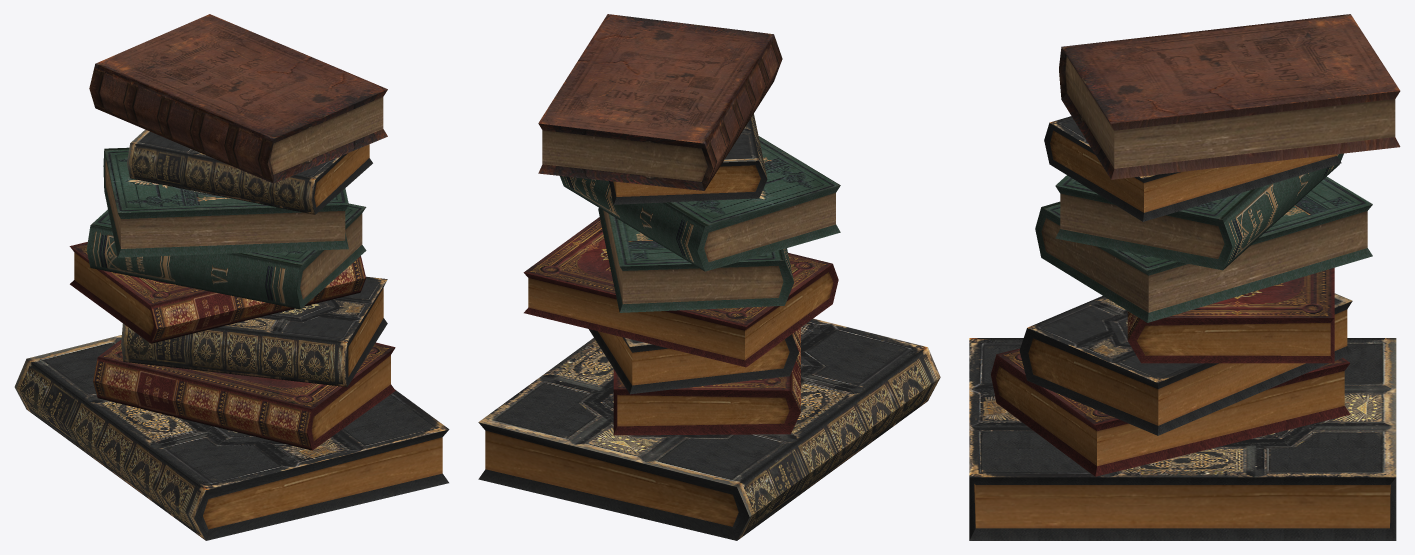
The model's file is SM_BookPile.FBX.
The picture shows the model from 3 angles, left to right: view 1: azimuth 30°, elevation 25°; view 2: azimuth 150°, elevation 25°; view 3: azimuth 270°, elevation 25°; orthographic projection. The views are drawn at different scales.
Visible parts, largest first — view 1: SM_BookPile; view 2: SM_BookPile; view 3: SM_BookPile.
Boxes of the visible parts, left/top/right/bottom form: SM_BookPile: left=14, top=14, right=449, bottom=540; SM_BookPile: left=478, top=14, right=940, bottom=540; SM_BookPile: left=969, top=14, right=1400, bottom=540.
Size of what is drawn, in the model's own units: 24.17 by 27.83 by 29.65.
